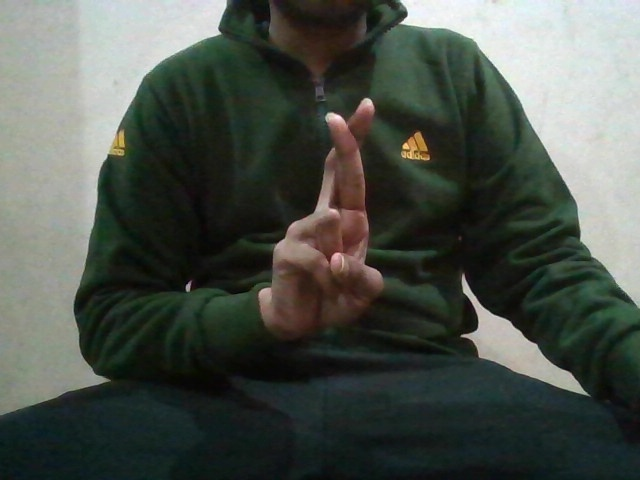R: (268, 91, 390, 339)
